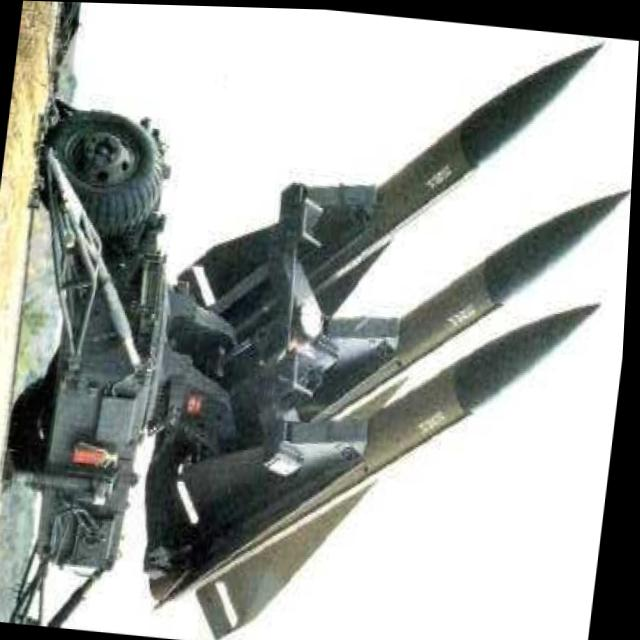missile: (163, 250, 608, 640), (191, 5, 610, 349), (306, 140, 635, 501)
